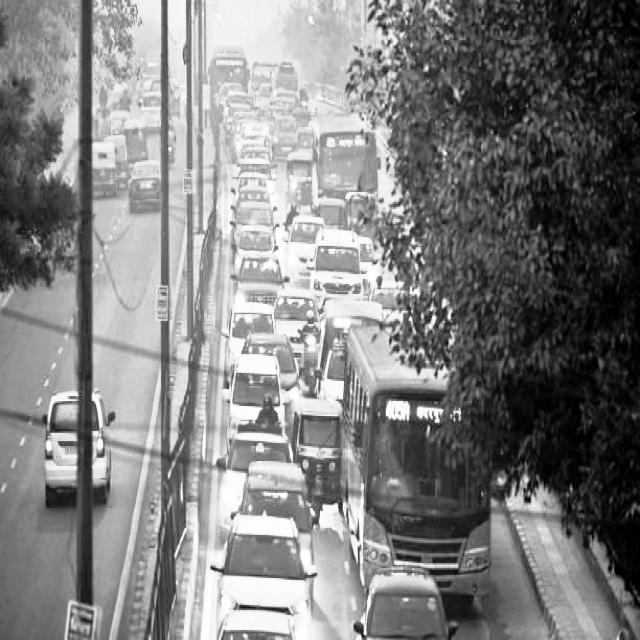Ambulance: (328, 310, 380, 330), (241, 123, 271, 143)
